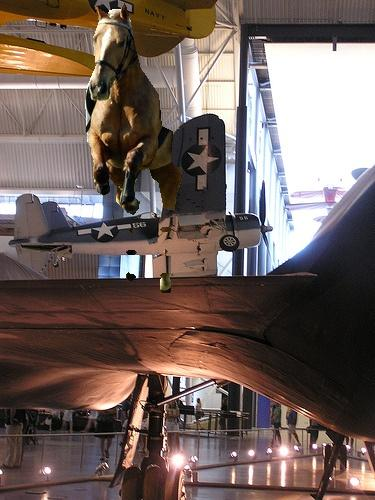tampered: (86, 4, 182, 293)
